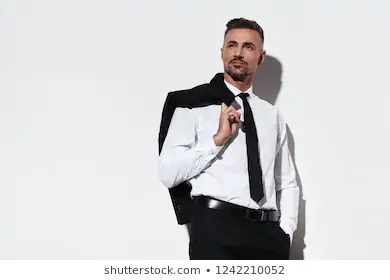F_belt: (190, 191, 284, 223)
F_shirt: (153, 80, 303, 227)
F_tie: (235, 90, 265, 202)
